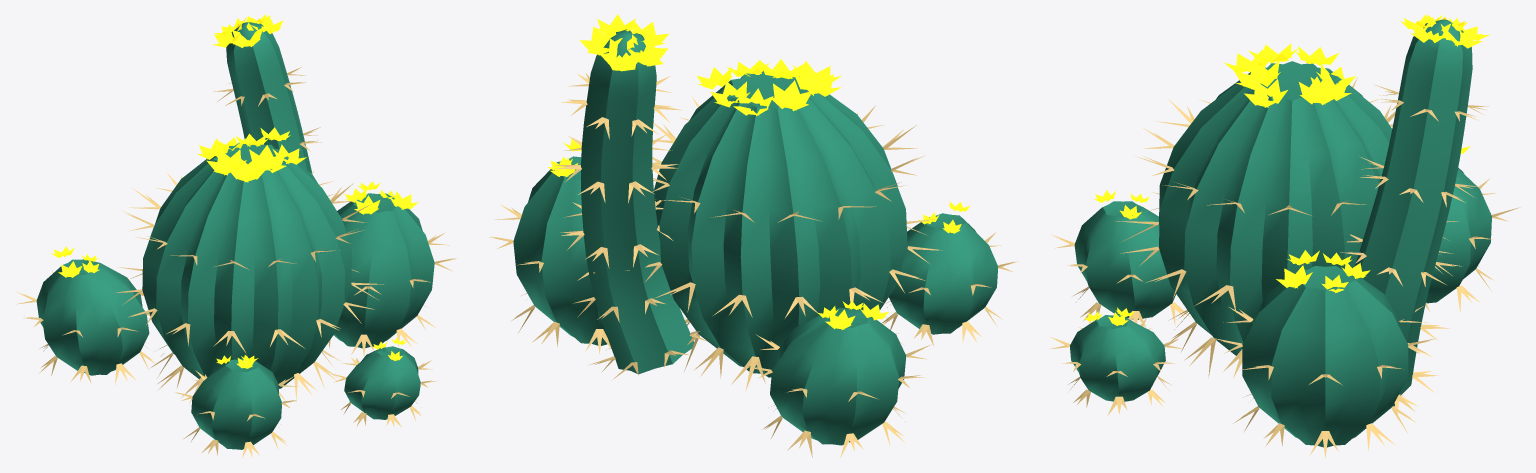
Rendered from cactus_b.glb.
3 renders of one model, left to right at view 1: azimuth 30°, elevation 25°; view 2: azimuth 150°, elevation 25°; view 3: azimuth 270°, elevation 25°, orthographic. The views are drawn at different scales.
Parts seen in each view (by area): view 1: cactus_b; view 2: cactus_b; view 3: cactus_b.
Part boxes in pixels (<box>): cactus_b: <box>16,14,457,458</box>; cactus_b: <box>489,14,1018,457</box>; cactus_b: <box>1049,14,1520,458</box>.
Size of the model in its own units: 1.68 by 1.25 by 1.43.
